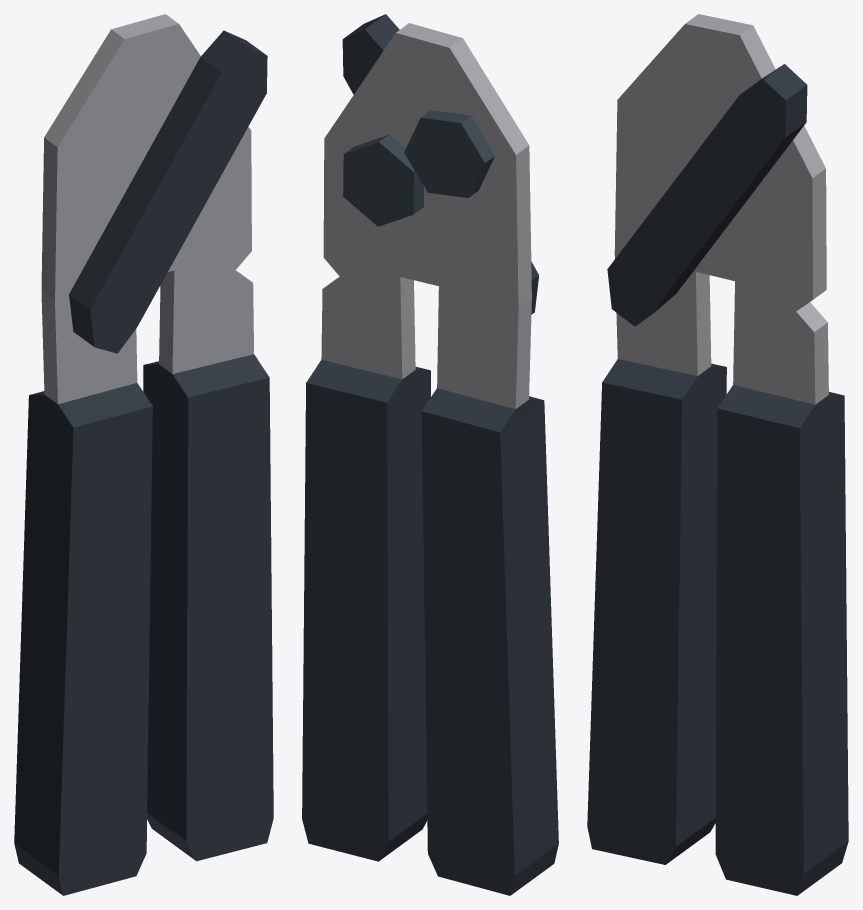
The model's file is Can_Opener.fbx.
3 views of the same model, side by side, from view 1: azimuth 30°, elevation 25°; view 2: azimuth 150°, elevation 25°; view 3: azimuth 330°, elevation 25° (orthographic).
Visible parts, largest first — view 1: Can Opener; view 2: Can Opener; view 3: Can Opener.
Part boxes in pixels (box(x1,y1,x2,y2)): Can Opener: box(14, 14, 273, 895); Can Opener: box(302, 14, 558, 895); Can Opener: box(587, 14, 848, 895).
Size of the model in its own units: 3.98 by 14.68 by 1.62.
